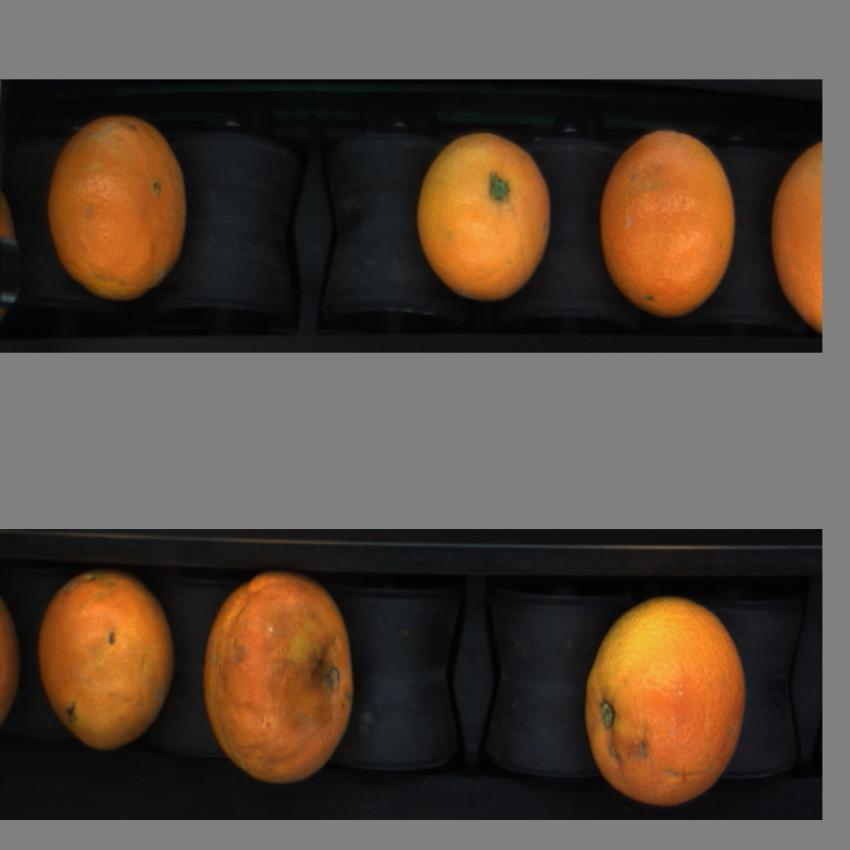Buen estado: (581, 591, 751, 816), (44, 105, 198, 308), (597, 122, 741, 325), (412, 124, 564, 314), (36, 568, 180, 753), (767, 130, 824, 342)
Mal estado: (200, 563, 366, 800)
